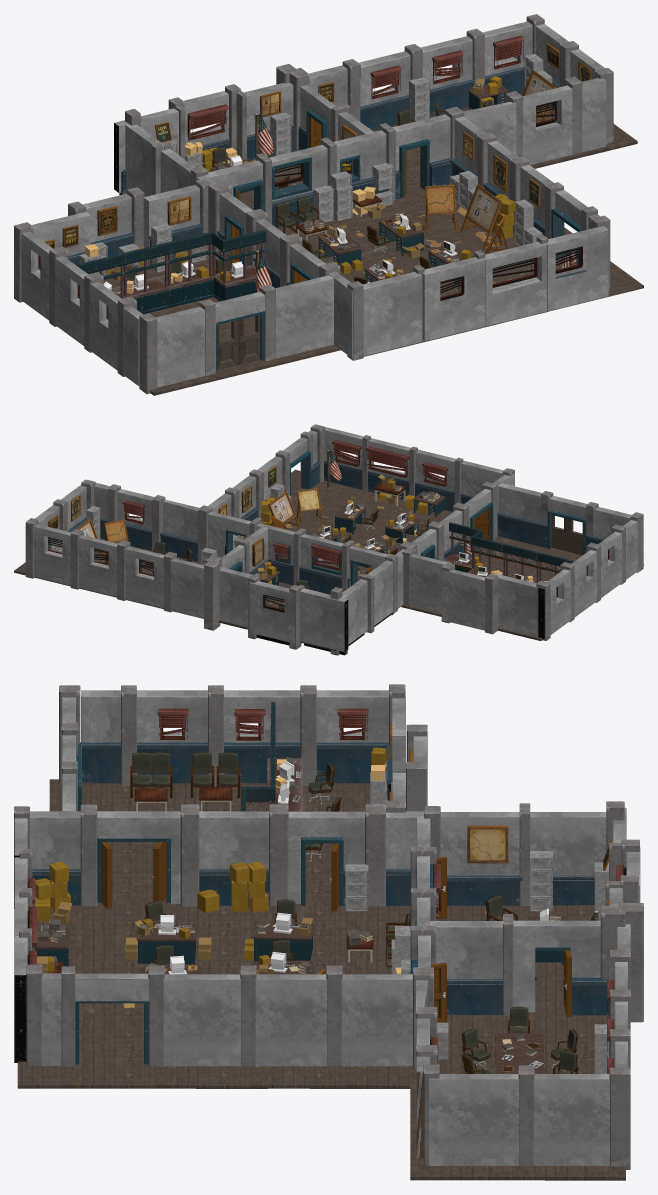
Rendered from policestation.glb.
3 renders of one model, top to bottom at view 1: azimuth 30°, elevation 25°; view 2: azimuth 150°, elevation 25°; view 3: azimuth 270°, elevation 25°, orthographic. The views are drawn at different scales.
Visible parts, largest first — view 1: DetectiveSchool, polySurface5801, polySurface6118, polySurface5207, polySurface5844, polySurface7172, polySurface5317, polySurface6778, ReceptionGround, polySurface6786, polySurface5276, polySurface5275 (+71 smaller); view 2: DetectiveSchool, polySurface6189, polySurface7151, polySurface5643, polySurface5619, polySurface6781, ReceptionGround, polySurface5276, polySurface8622, polySurface8623, polySurface7330, polySurface8624 (+65 smaller); view 3: DetectiveSchool, ReceptionGround, polySurface7310, Meeting_Room_Ground, polySurface7763, polySurface7314, polySurface6760, polySurface5799, polySurface6786, polySurface5276, polySurface5275, polySurface4918 (+55 smaller).
Boxes of the visible parts, <box> form: DetectiveSchool: <box>278,193,643,356</box>; polySurface5801: <box>139,306,215,394</box>; polySurface6118: <box>363,265,424,355</box>; polySurface5207: <box>545,215,610,311</box>; polySurface5844: <box>422,250,485,340</box>; polySurface7172: <box>275,275,333,358</box>; polySurface5317: <box>484,235,548,326</box>; polySurface6778: <box>523,85,572,164</box>; ReceptionGround: <box>103,255,340,395</box>; polySurface6786: <box>49,246,88,345</box>; polySurface5276: <box>14,222,52,320</box>; polySurface5275: <box>84,272,121,370</box>; DetectiveSchool: <box>282,469,475,580</box>; polySurface6189: <box>485,573,537,636</box>; polySurface7151: <box>300,588,348,651</box>; polySurface5643: <box>441,563,485,630</box>; polySurface5619: <box>249,581,295,643</box>; polySurface6781: <box>402,547,451,613</box>; ReceptionGround: <box>401,536,643,640</box>; polySurface5276: <box>536,569,570,640</box>; polySurface8622: <box>125,546,163,608</box>; polySurface8623: <box>79,535,117,596</box>; polySurface7330: <box>170,558,203,618</box>; polySurface8624: <box>34,524,70,585</box>; DetectiveSchool: <box>17,901,410,1088</box>; ReceptionGround: <box>49,779,387,901</box>; polySurface7310: <box>429,1074,519,1165</box>; Meeting_Room_Ground: <box>410,1024,625,1180</box>; polySurface7763: <box>163,974,241,1066</box>; polySurface7314: <box>533,1074,609,1166</box>; polySurface6760: <box>255,974,327,1066</box>; polySurface5799: <box>341,974,412,1066</box>; polySurface6786: <box>224,685,316,785</box>; polySurface5276: <box>316,684,405,783</box>; polySurface5275: <box>137,685,223,785</box>; polySurface4918: <box>30,804,97,906</box>.
Bounding box in the file's own units: 31.82 × 4.1 × 21.12.
21 materials, 19 textured.
